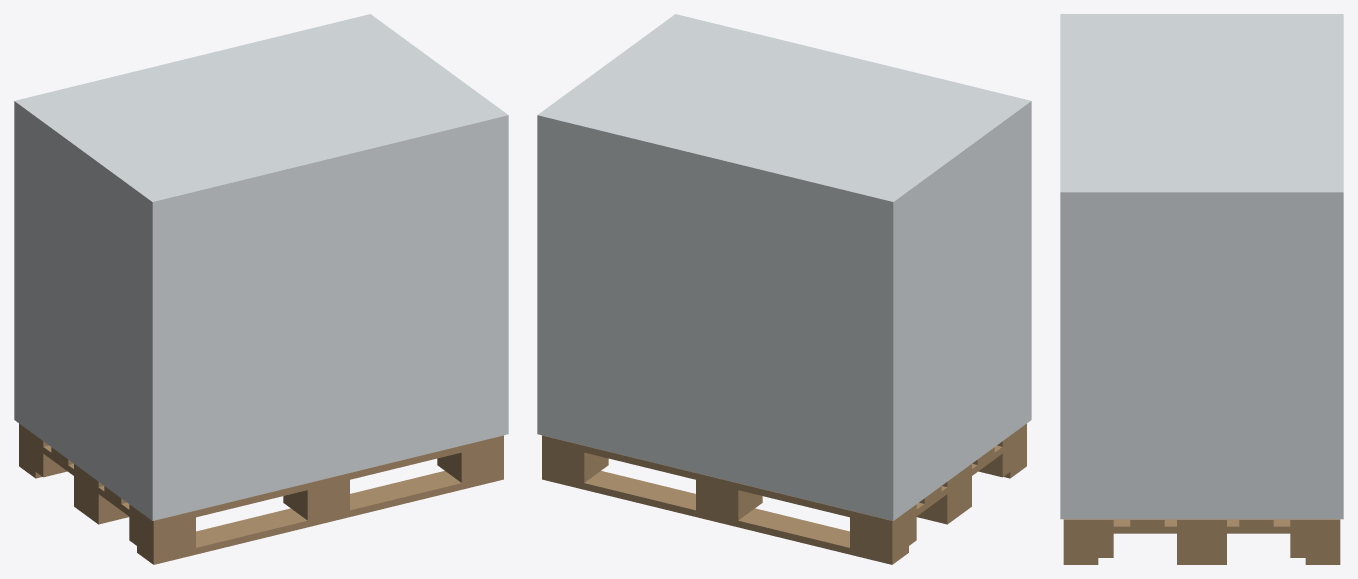
Rendered from SM_ReagentSackPallet.fbx.
3 renders of one model, left to right at view 1: azimuth 30°, elevation 25°; view 2: azimuth 150°, elevation 25°; view 3: azimuth 270°, elevation 25°, orthographic. The views are drawn at different scales.
Parts seen in each view (by area): view 1: RS_Wrap, RS_PalletSacks; view 2: RS_Wrap, RS_PalletSacks; view 3: RS_Wrap, RS_PalletSacks.
Boxes of the visible parts, x1=… form: RS_Wrap: x1=14, y1=14, x2=508, y2=520; RS_PalletSacks: x1=19, y1=423, x2=503, y2=564; RS_Wrap: x1=537, y1=14, x2=1031, y2=520; RS_PalletSacks: x1=542, y1=423, x2=1026, y2=564; RS_Wrap: x1=1060, y1=14, x2=1343, y2=519; RS_PalletSacks: x1=1063, y1=519, x2=1340, y2=564.
Bounding box in the file's own units: 122 × 119 × 82.
